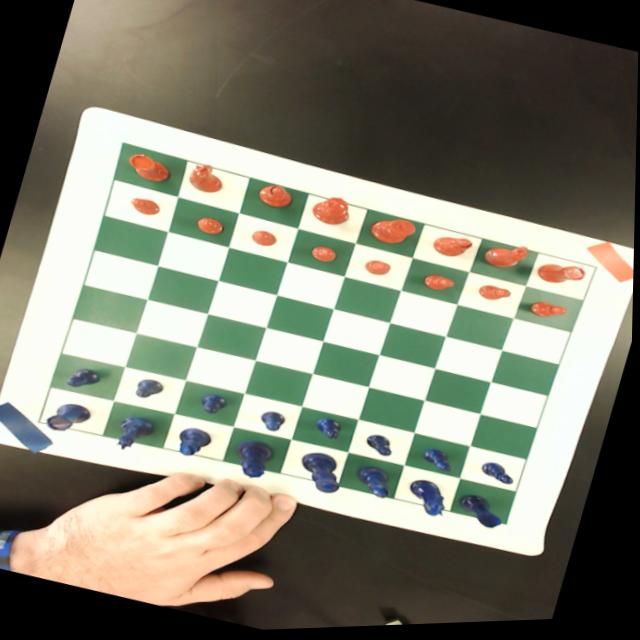B: (354, 465, 397, 502), (176, 424, 216, 462)
K: (295, 450, 350, 498)
N: (112, 412, 158, 459), (406, 478, 455, 522)
P: (65, 363, 104, 394), (420, 446, 459, 477), (481, 462, 520, 490), (135, 375, 168, 403), (200, 391, 233, 419), (314, 416, 347, 444), (366, 433, 398, 461), (259, 409, 289, 436)
Q: (230, 437, 278, 484)
R: (45, 396, 97, 440), (455, 494, 510, 534)
b: (253, 181, 298, 214), (430, 233, 476, 265)
k: (369, 214, 419, 252)
n: (481, 238, 536, 280), (186, 161, 229, 197)
p: (529, 301, 570, 326), (478, 284, 515, 309), (422, 273, 459, 298), (129, 195, 164, 219), (195, 214, 228, 238), (309, 244, 341, 267), (250, 228, 281, 251), (364, 259, 394, 280)
q: (310, 193, 355, 231)
r: (123, 149, 177, 187), (536, 260, 590, 295)
